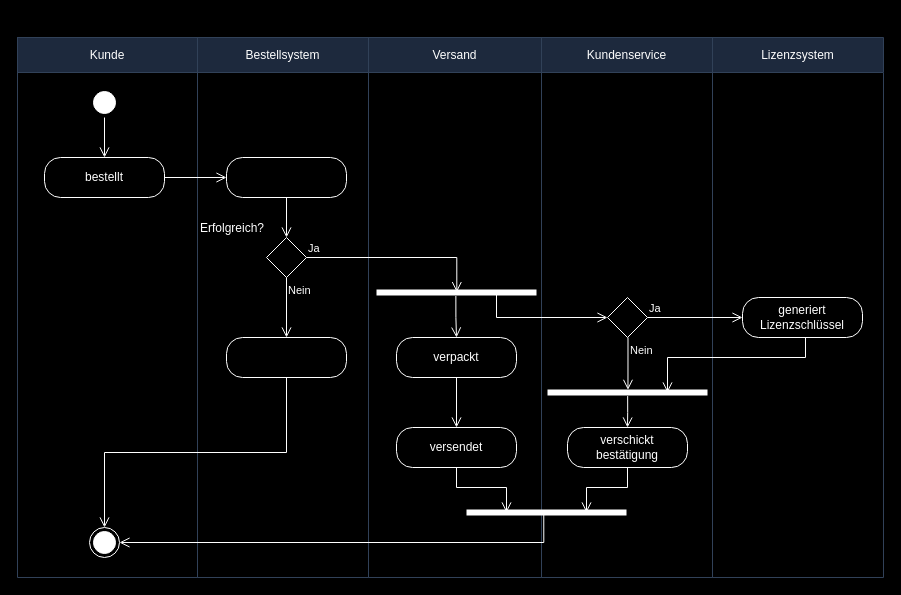
Some shapes in this 901 by 595 pixel diagram are drawn without their labels. The box of each missing label's shape, as (x1, y1, x2, y2) in pixels:
Digitales Produkt?: (606, 296, 648, 338)
prüft: (226, 156, 346, 198)
storniert: (226, 336, 346, 378)
